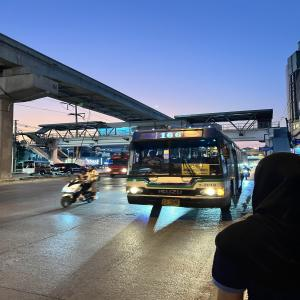BMTA-bus: (125, 128, 242, 220)
Bus Line Number: (156, 132, 182, 138)
Bus Side Number: (198, 182, 218, 188)
Destination Sign: (182, 163, 210, 175)
